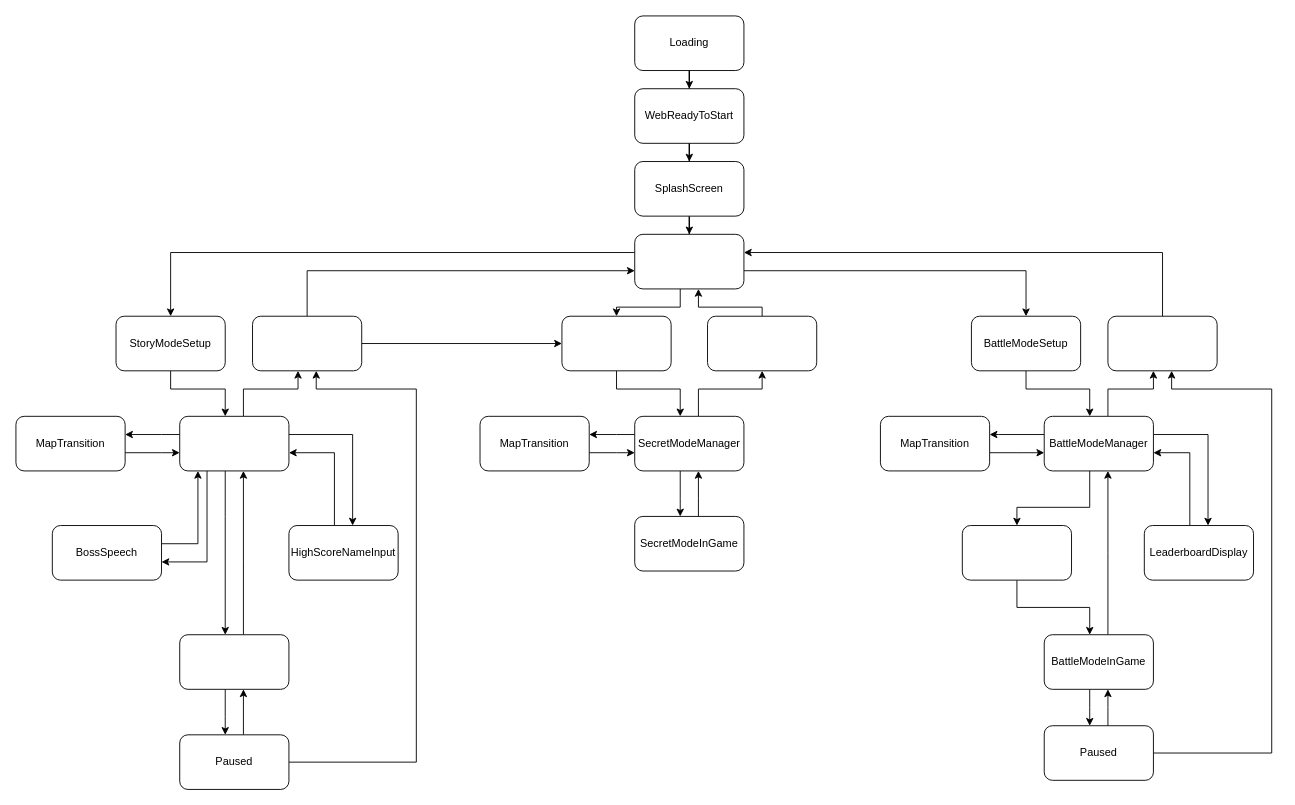
The diagram is 1295 pixels wide and 805 high, and some of its shapes have lost their labels. The shapes that lost their labels are listed below. From the top down, each one's box as (x1, y1, x2, y2) in pixels, then its label:
(634, 233, 744, 289): MainMenu
(252, 315, 362, 371): StoryModeTeardown
(561, 315, 671, 371): SecretModeSetup
(707, 315, 817, 371): SecretModeTeardown
(1107, 315, 1217, 371): BattleModeTeardown
(179, 415, 289, 471): StoryModeManager
(961, 525, 1072, 580): RoundStartFreeze
(179, 634, 289, 689): StoryModeInGame
